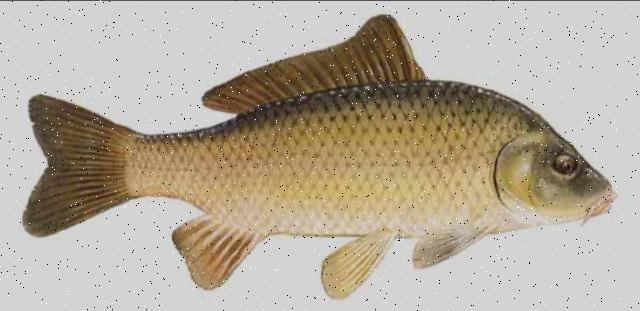Mulut: (580, 161, 624, 239)
Sirip Anal: (167, 212, 255, 296)
Sirip Dada: (408, 213, 508, 273)
Sirip Ekor: (19, 85, 152, 242)
Sirip Perut: (312, 224, 398, 302)
Sirip Punggung: (199, 9, 433, 125)
